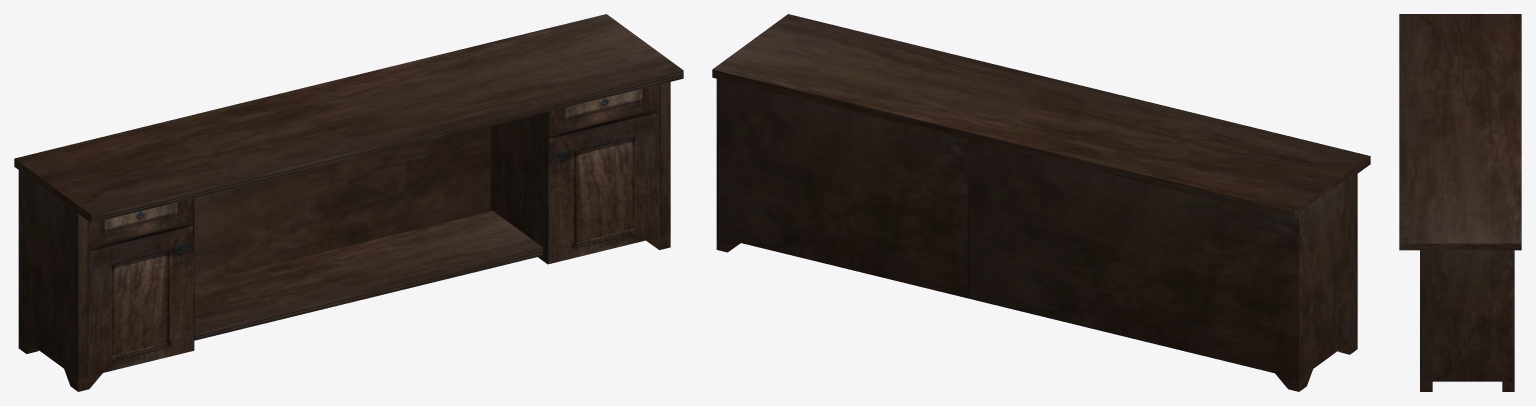
The model's file is counter_spanish.fbx.
3 views of the same model, side by side, from view 1: azimuth 30°, elevation 25°; view 2: azimuth 150°, elevation 25°; view 3: azimuth 270°, elevation 25° (orthographic). The views are drawn at different scales.
Parts seen in each view (by area): view 1: cabinet_low_spanish_cabinet_base3, cabinet_low_spanish_cabinet_base, cabinet_low_spanish_cabinet_base2, cabinet_spanish_low:cabinet_low_spanish_cabinet_base; view 2: cabinet_spanish_low:cabinet_low_spanish_cabinet_base, cabinet_low_spanish_cabinet_base; view 3: cabinet_low_spanish_cabinet_base, cabinet_spanish_low:cabinet_low_spanish_cabinet_base, cabinet_spanish_low:cabinet_spanish:cabinet_foot_3, cabinet_spanish_low:cabinet_spanish:cabinet_foot_2.
Boxes of the visible parts, x1,y1,x2,y2 form: cabinet_low_spanish_cabinet_base3: [87, 84, 660, 376]; cabinet_low_spanish_cabinet_base: [14, 14, 683, 222]; cabinet_low_spanish_cabinet_base2: [194, 211, 542, 340]; cabinet_spanish_low:cabinet_low_spanish_cabinet_base: [18, 82, 670, 378]; cabinet_spanish_low:cabinet_low_spanish_cabinet_base: [716, 79, 1357, 378]; cabinet_low_spanish_cabinet_base: [712, 14, 1370, 219]; cabinet_low_spanish_cabinet_base: [1399, 14, 1521, 250]; cabinet_spanish_low:cabinet_low_spanish_cabinet_base: [1420, 247, 1514, 381]; cabinet_spanish_low:cabinet_spanish:cabinet_foot_3: [1420, 381, 1432, 391]; cabinet_spanish_low:cabinet_spanish:cabinet_foot_2: [1502, 381, 1514, 391].
Bounding box in the file's own units: 1198 × 361 × 270.
1 material, 1 textured.
